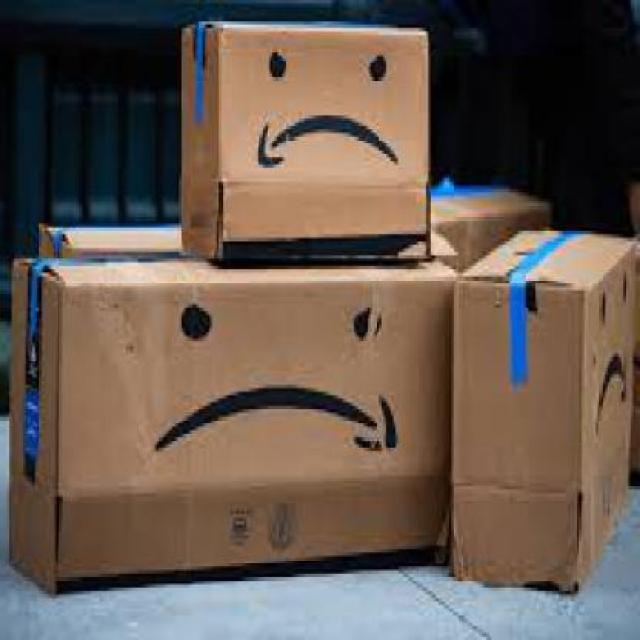cardboxes: (7, 251, 445, 580), (451, 227, 637, 593), (180, 20, 432, 262)
